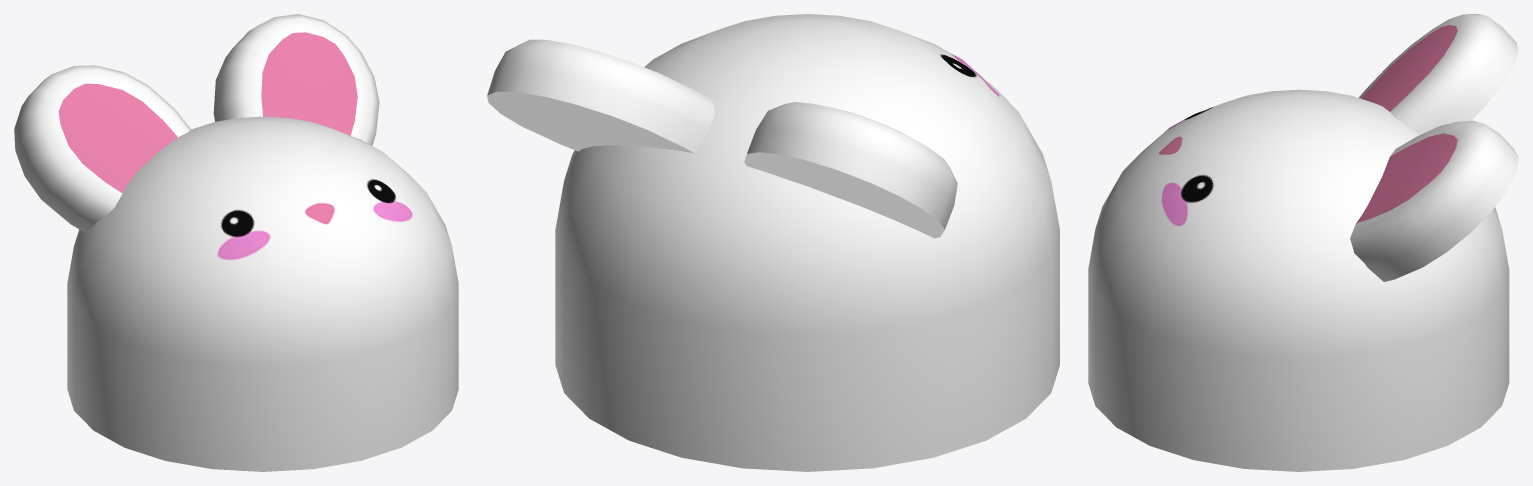
The model's file is Candy_RabbitHead-A.FBX.
3 renders of one model, left to right at view 1: azimuth 30°, elevation 25°; view 2: azimuth 150°, elevation 25°; view 3: azimuth 270°, elevation 25°, orthographic. The views are drawn at different scales.
Parts seen in each view (by area): view 1: Candy_RabbitHead-A; view 2: Candy_RabbitHead-A; view 3: Candy_RabbitHead-A.
Part boxes in pixels (<box>): Candy_RabbitHead-A: <box>14,14,458,471</box>; Candy_RabbitHead-A: <box>487,14,1059,471</box>; Candy_RabbitHead-A: <box>1088,14,1518,471</box>.
Size of the model in its own units: 3031 by 2414 by 3084.
Materials: 1 (1 with a texture image).
